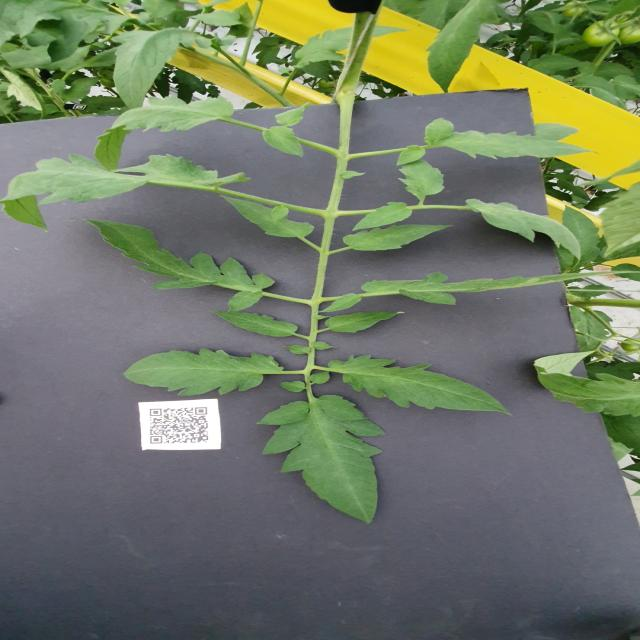Healthy Leaf: (1, 154, 253, 234), (85, 220, 277, 315), (260, 395, 388, 524), (328, 355, 513, 418), (94, 97, 236, 171), (360, 272, 640, 307), (124, 348, 285, 397), (113, 29, 214, 107), (467, 199, 582, 263), (534, 351, 640, 418), (427, 1, 501, 94), (424, 119, 591, 160), (298, 26, 412, 70), (219, 195, 316, 239), (344, 225, 453, 252), (207, 309, 300, 338), (564, 204, 602, 266), (326, 311, 405, 334), (352, 203, 414, 232), (400, 160, 446, 199), (263, 127, 306, 158), (275, 103, 313, 127), (190, 11, 242, 28), (320, 294, 362, 314), (398, 146, 428, 167)
